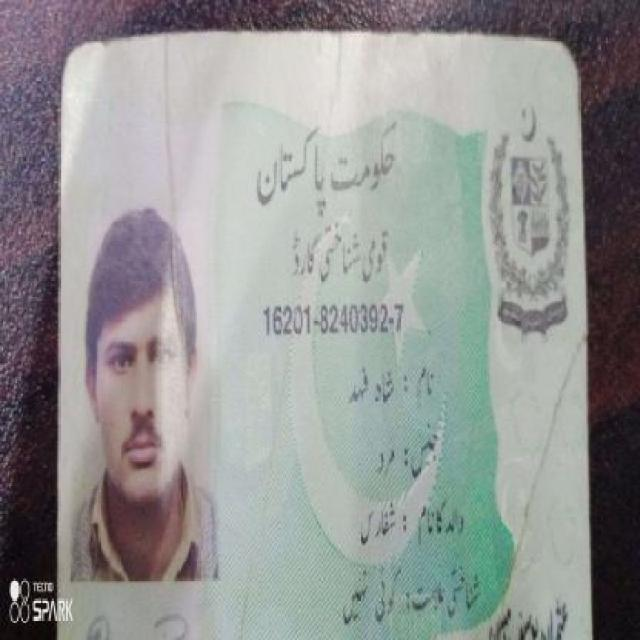Front: (37, 17, 597, 605)
